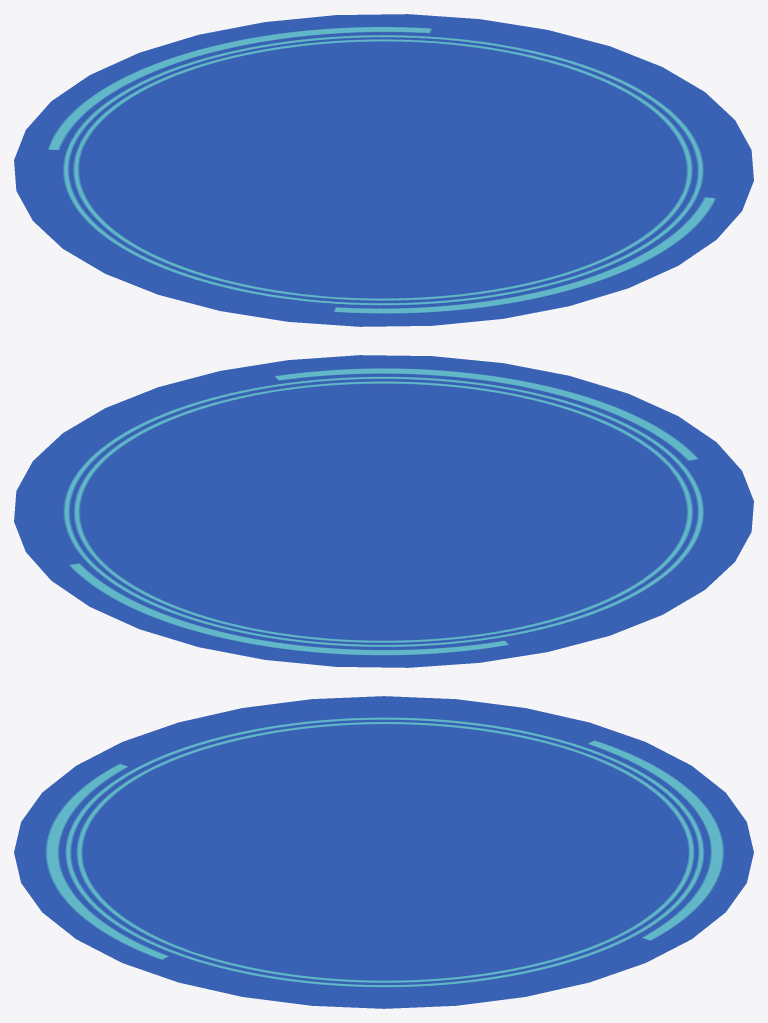
File: fullGreen.glb
3 views of the same model, one above another, from view 1: azimuth 30°, elevation 25°; view 2: azimuth 150°, elevation 25°; view 3: azimuth 270°, elevation 25° (orthographic).
Parts seen in each view (by area): view 1: Circle; view 2: Circle; view 3: Circle.
Boxes of the visible parts, x1=… form: Circle: x1=14, y1=14, x2=753, y2=326; Circle: x1=14, y1=355, x2=753, y2=667; Circle: x1=14, y1=696, x2=753, y2=1008.
Size of the model in its own units: 1.29 by 0 by 1.29.
